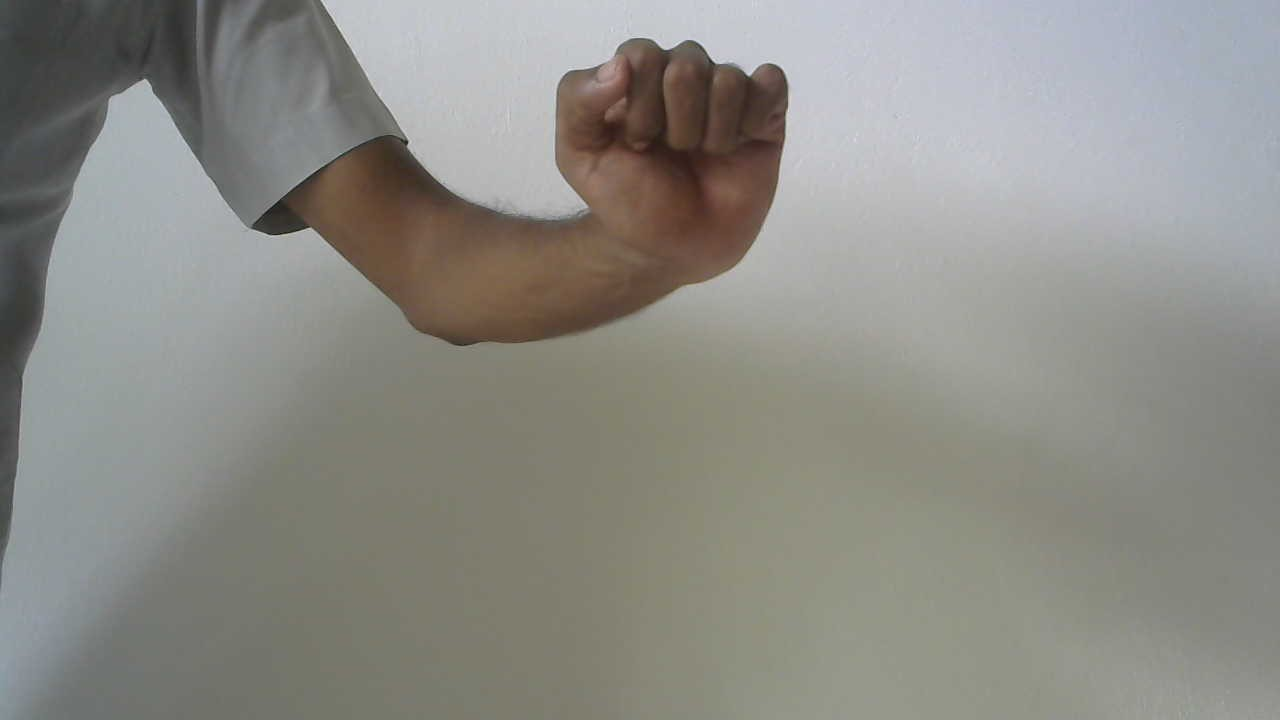yes: (540, 17, 821, 287)
